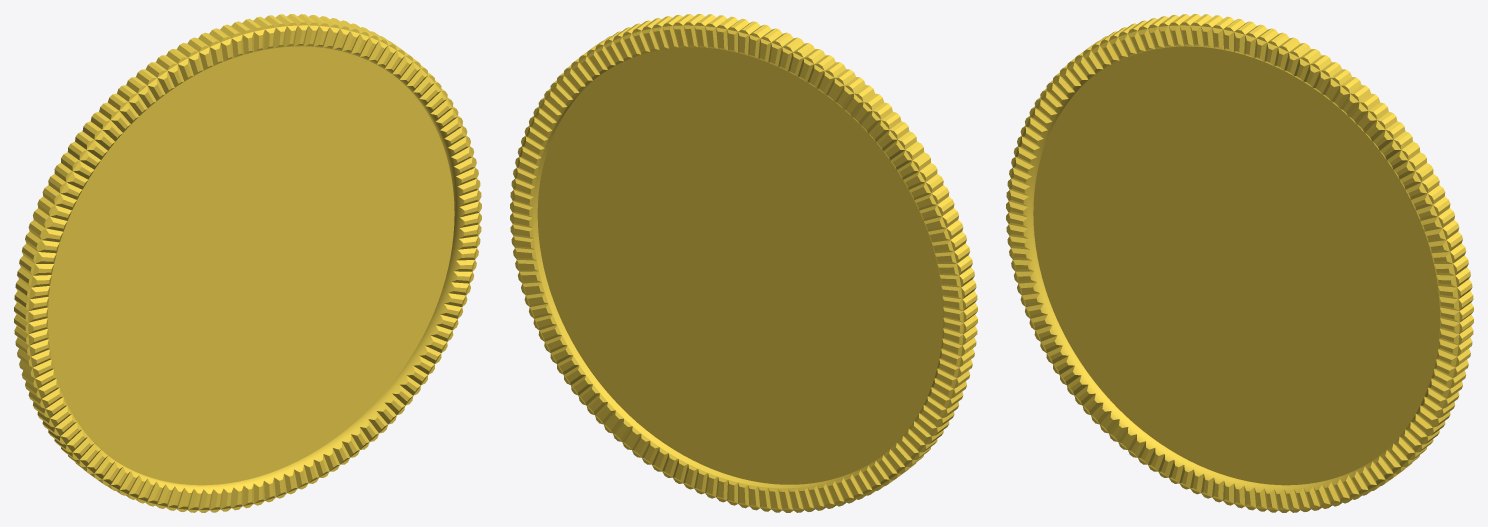
File: gold coin blank.glb
The picture shows the model from 3 angles, left to right: view 1: azimuth 30°, elevation 25°; view 2: azimuth 150°, elevation 25°; view 3: azimuth 330°, elevation 25°; orthographic projection.
Visible parts, largest first — view 1: Cylinder; view 2: Cylinder; view 3: Cylinder.
Part boxes in pixels (<box>): Cylinder: <box>14,14,481,512</box>; Cylinder: <box>510,14,977,512</box>; Cylinder: <box>1006,14,1473,512</box>.
Size of the model in its own units: 5.48 by 5.48 by 0.3031.
